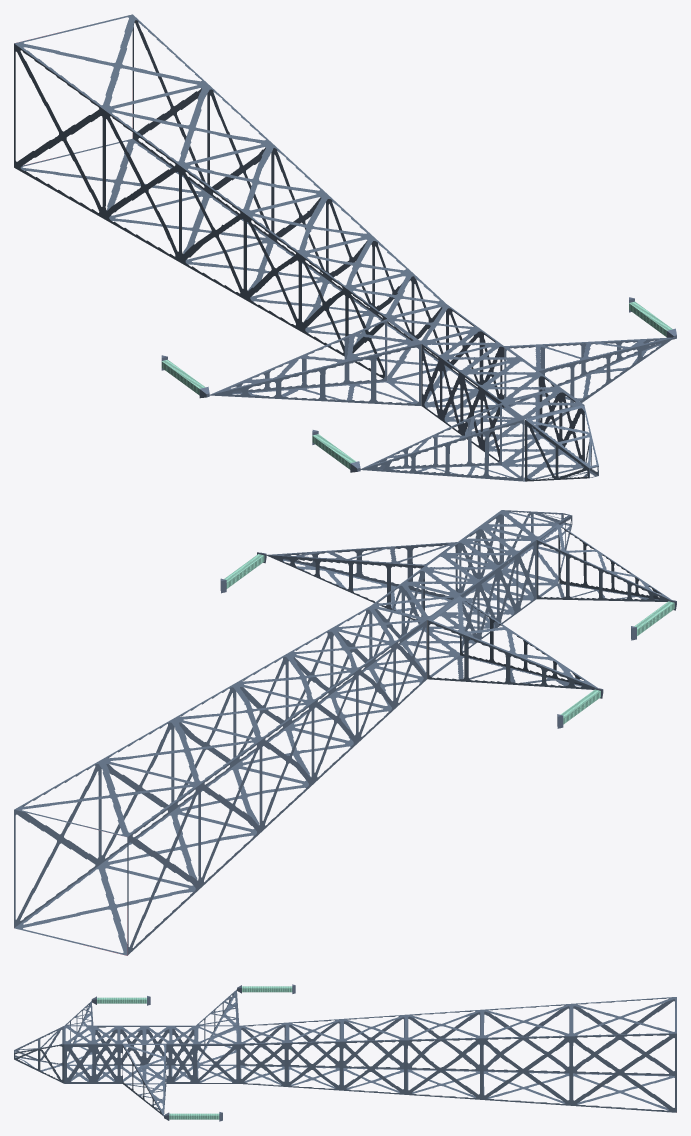
Rendered from pylon_medium.obj.
3 renders of one model, top to bottom at view 1: azimuth 30°, elevation 25°; view 2: azimuth 150°, elevation 25°; view 3: azimuth 270°, elevation 25°, orthographic. The views are drawn at different scales.
Parts seen in each view (by area): view 1: Pylon_Medium_100kV; view 2: Pylon_Medium_100kV; view 3: Pylon_Medium_100kV.
Part boxes in pixels (x1,y1,x2,y2): Pylon_Medium_100kV: [14, 14, 676, 481]; Pylon_Medium_100kV: [14, 510, 676, 955]; Pylon_Medium_100kV: [14, 984, 676, 1121].
Bounding box in the file's own units: 12.32 × 3.49 × 26.51.
